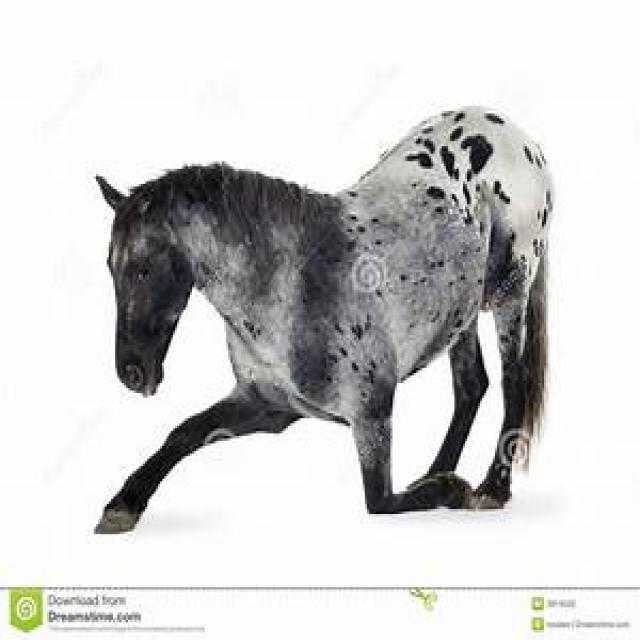horse: (96, 106, 557, 537)
